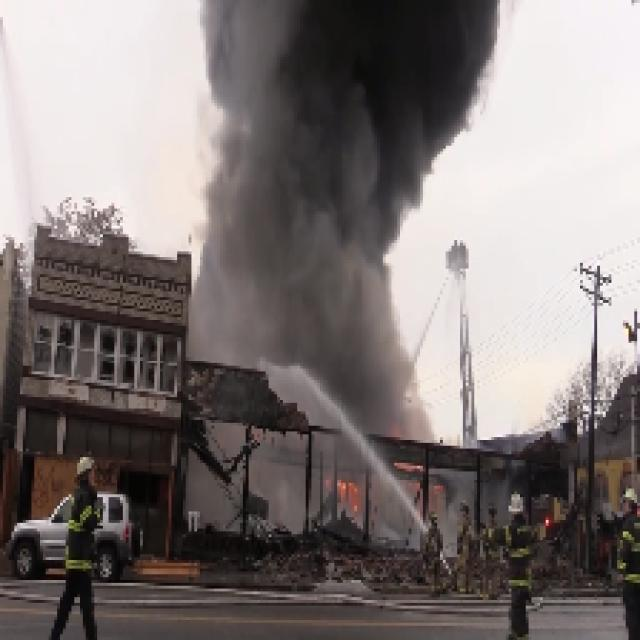smoke: (210, 4, 392, 361)
